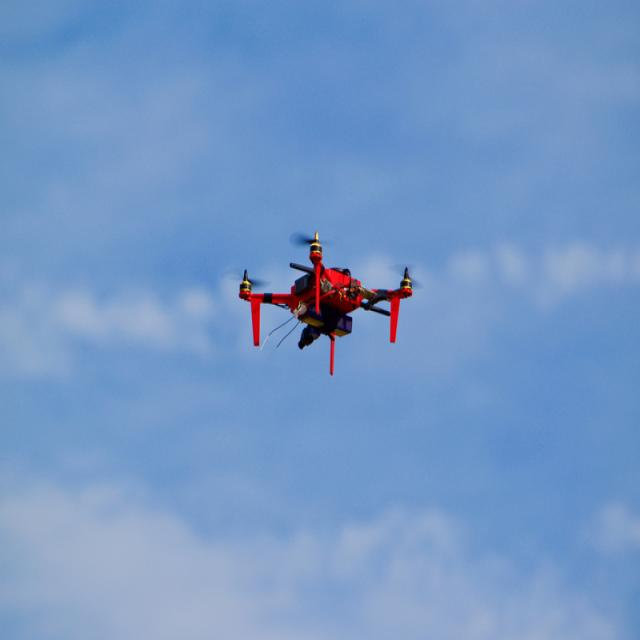drone: (219, 227, 427, 378)
